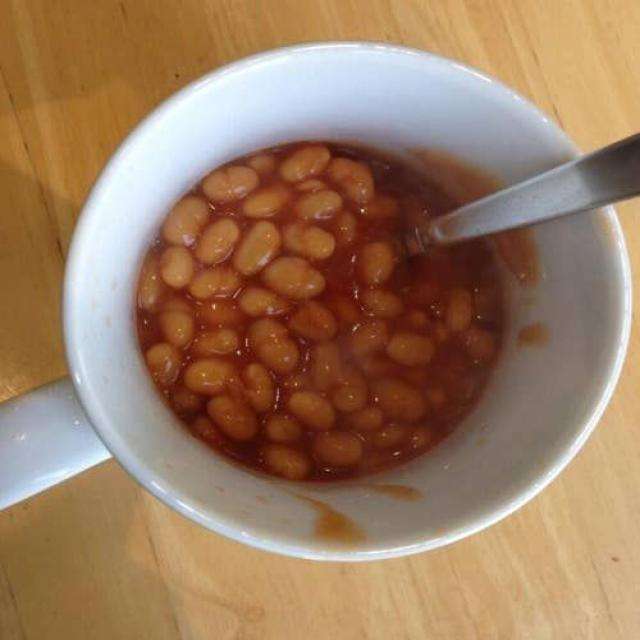beans: (136, 144, 503, 480), (249, 319, 299, 374), (262, 258, 325, 299), (233, 221, 280, 275), (208, 395, 258, 441), (372, 379, 426, 421), (162, 197, 209, 245), (328, 158, 375, 204), (203, 166, 258, 203), (195, 219, 240, 264), (288, 301, 337, 341), (184, 359, 236, 395), (280, 145, 330, 182), (283, 224, 335, 259), (288, 392, 335, 430), (313, 431, 362, 467), (263, 444, 311, 480), (189, 266, 240, 299), (242, 363, 275, 413), (242, 184, 290, 218), (358, 241, 395, 285), (137, 254, 165, 311), (332, 367, 367, 412), (312, 342, 343, 392), (255, 339, 299, 374), (239, 287, 290, 317), (387, 333, 433, 366), (145, 343, 181, 385), (160, 247, 195, 288), (350, 320, 389, 356), (296, 190, 341, 220), (192, 328, 240, 356), (159, 311, 194, 347), (360, 289, 403, 318), (446, 288, 473, 332), (196, 300, 243, 325), (464, 327, 495, 361), (248, 319, 287, 346), (265, 414, 302, 442), (359, 354, 400, 379), (370, 424, 409, 449), (473, 286, 500, 322), (331, 296, 362, 327), (363, 195, 399, 220), (349, 406, 383, 432), (171, 387, 203, 413), (335, 212, 357, 245), (191, 415, 218, 440), (160, 296, 193, 315), (248, 153, 276, 174), (283, 373, 312, 392), (410, 428, 433, 449), (425, 387, 446, 408), (296, 179, 327, 192), (406, 311, 428, 329), (433, 321, 449, 344)
